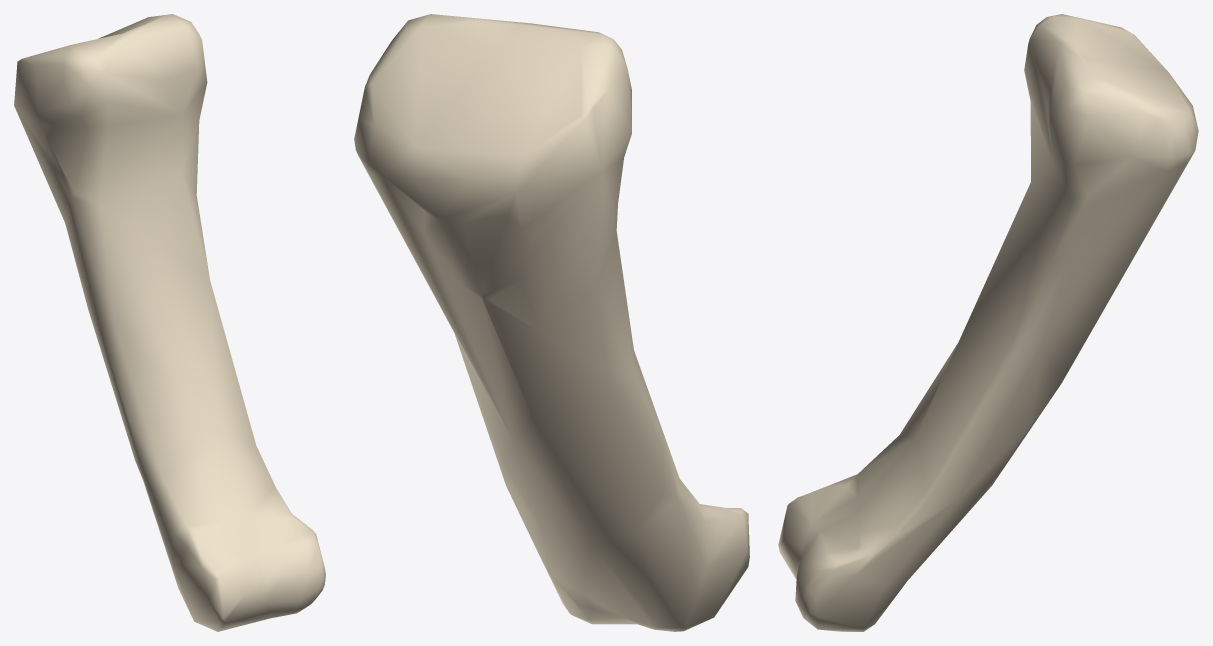
Rendered from proximal-phalanx-of-fourth-finger-of-hand-l.glb.
3 views of the same model, side by side, from view 1: azimuth 30°, elevation 25°; view 2: azimuth 150°, elevation 25°; view 3: azimuth 270°, elevation 25° (orthographic). The views are drawn at different scales.
Visible parts, largest first — view 1: Proximal phalanx of fourth finger of hand.l; view 2: Proximal phalanx of fourth finger of hand.l; view 3: Proximal phalanx of fourth finger of hand.l.
Boxes of the visible parts, x1,y1,x2,y2 form: Proximal phalanx of fourth finger of hand.l: (14,14,325,631); Proximal phalanx of fourth finger of hand.l: (354,14,749,631); Proximal phalanx of fourth finger of hand.l: (778,14,1198,631).
Size of the model in its own units: 0.0139 by 0.0404 by 0.0273.
